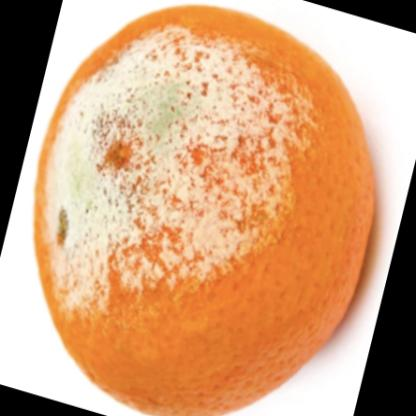rotten: (32, 8, 378, 416)
